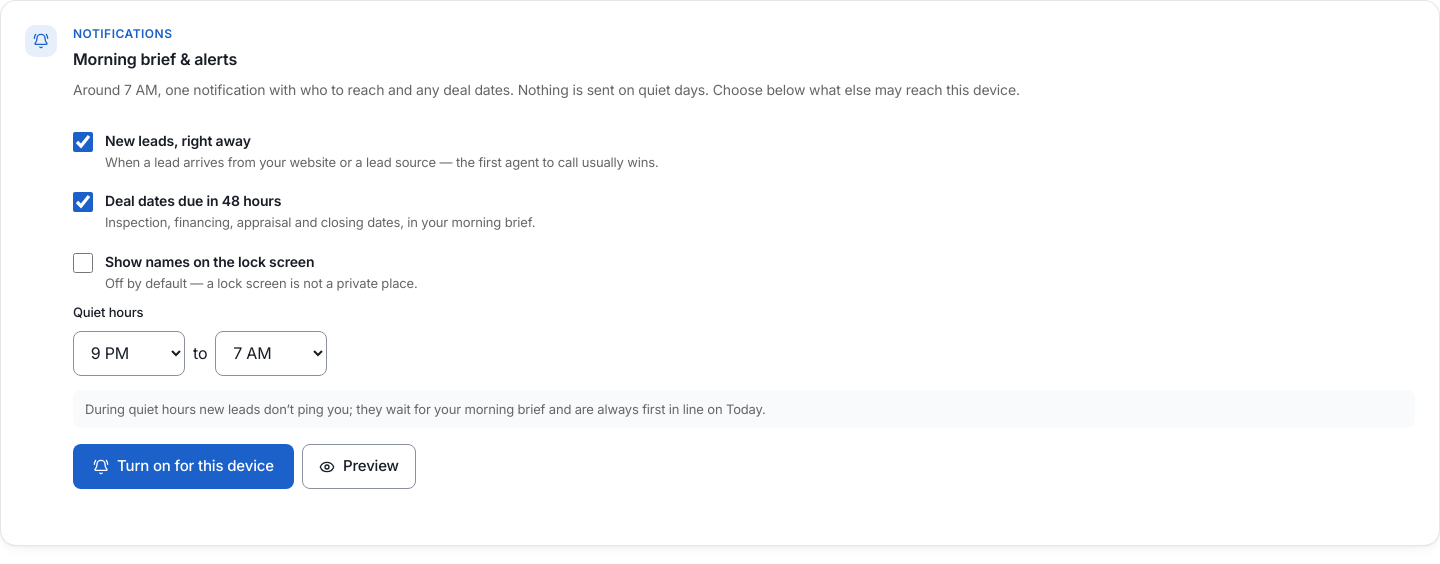
Test: MorningBriefSettings › subscribes, stores the device and reports success
This screenshot has width=1440, height=564.
Expected: the button "Turn on for this device" is enabled, x1=73 y1=444 x2=294 y2=489
Click the checkbox labelled "Show names".
click(83, 263)  # box x1=73 y1=253 x2=93 y2=273
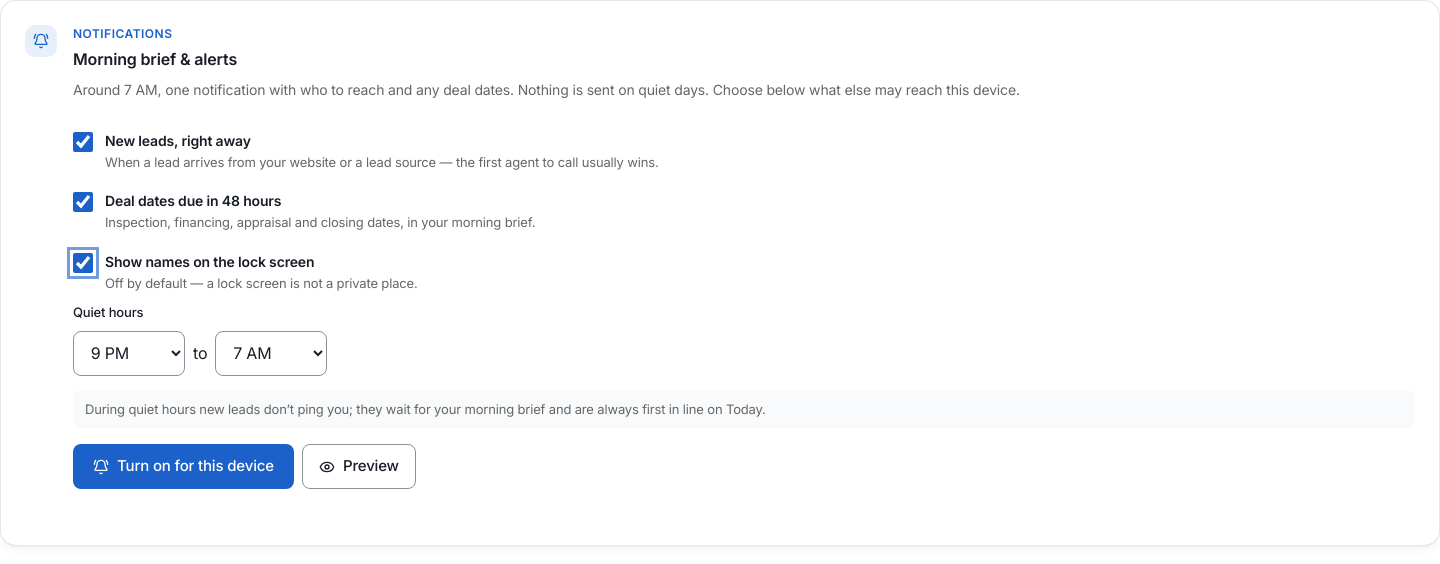
Click the button "Turn on for this device".
click(184, 467)  # box x1=73 y1=444 x2=294 y2=489
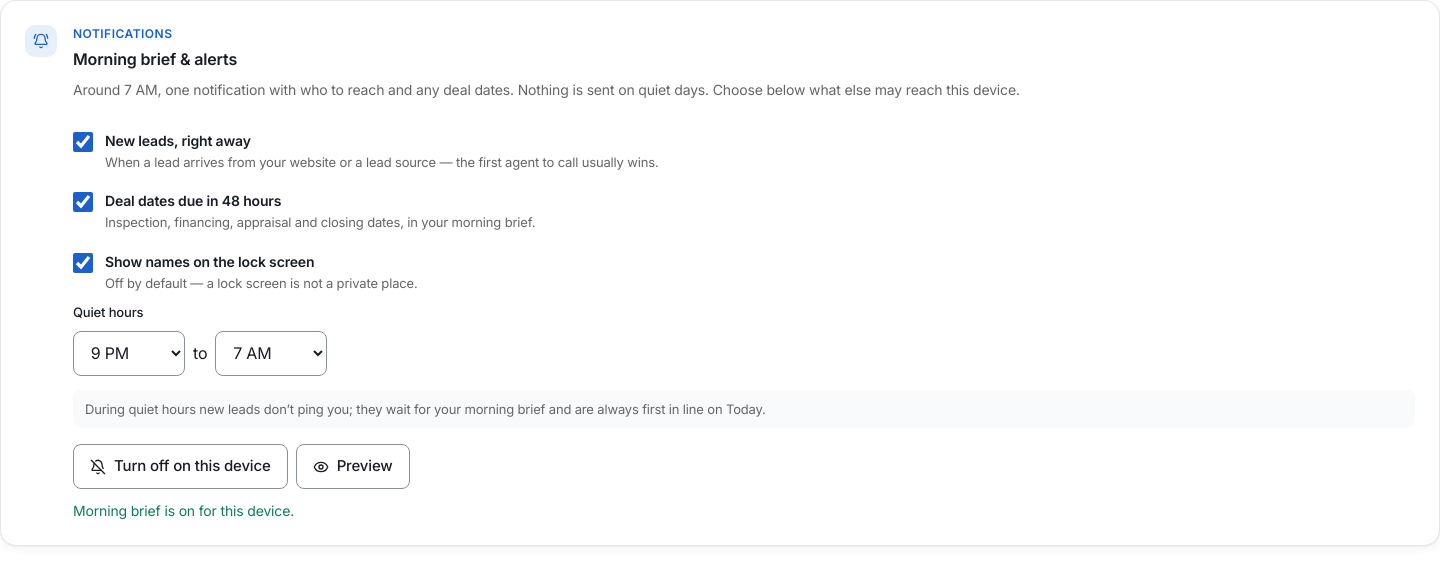
Expected: the text "Morning brief is on for this device." is shown, x1=73 y1=502 x2=294 y2=519
Expected: the button "Turn off on this device" is shown, x1=73 y1=444 x2=288 y2=489
